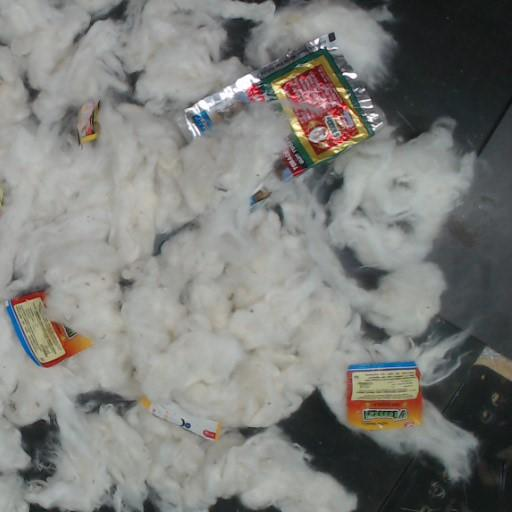conveyor belt: (280, 0, 511, 511), (20, 416, 56, 479), (79, 391, 133, 411), (225, 18, 254, 55), (92, 0, 127, 23), (210, 497, 250, 511)
packet: (184, 32, 383, 179), (6, 292, 91, 367), (346, 362, 422, 431), (141, 398, 222, 437), (80, 101, 99, 143), (251, 189, 270, 205)
